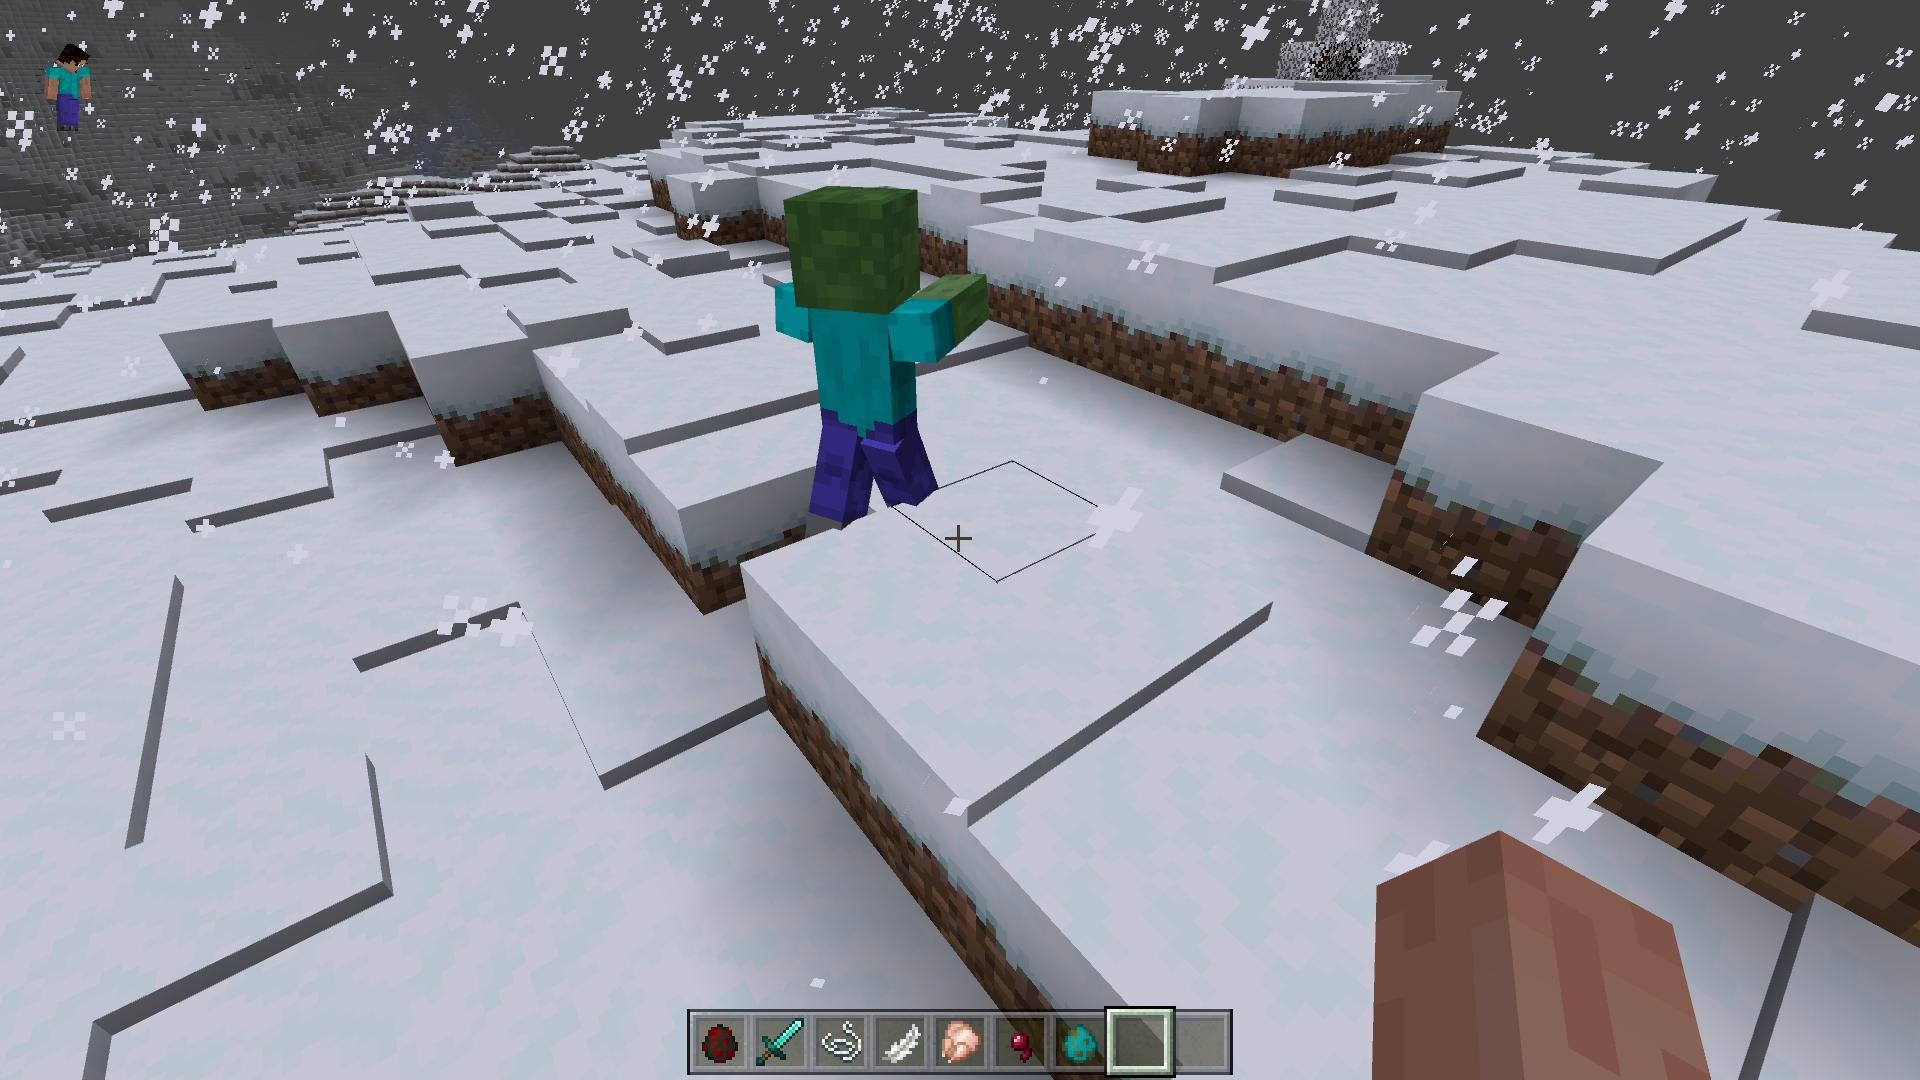zombie: (773, 179, 992, 522)
